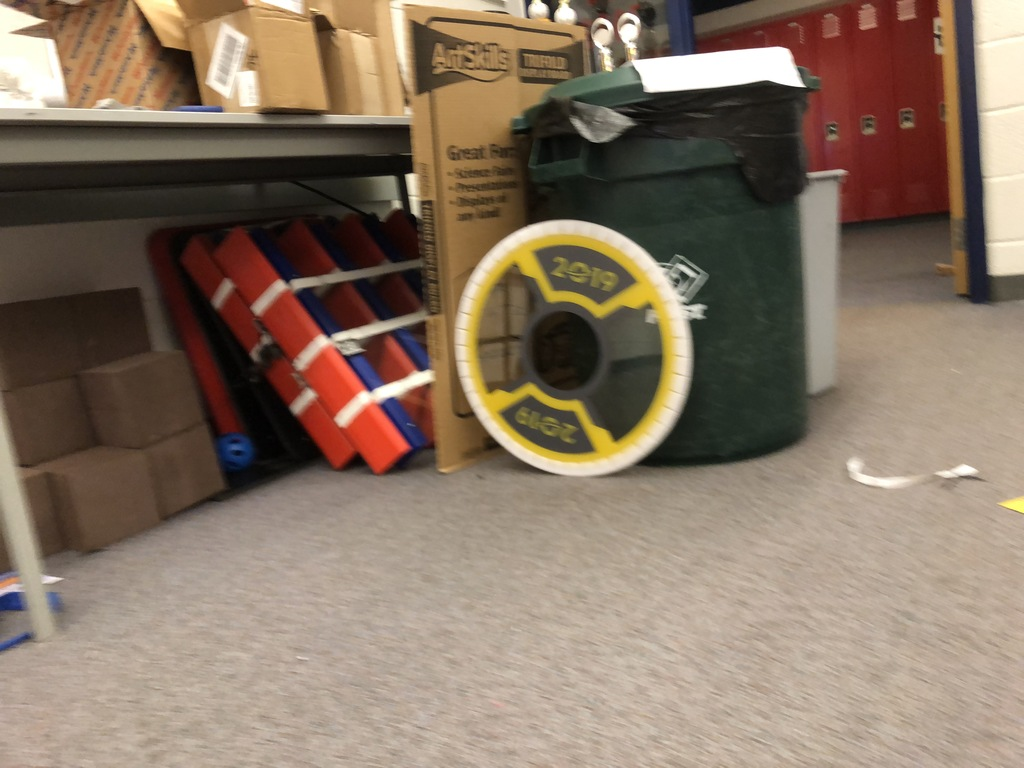hatch_panel: (448, 209, 705, 491)
